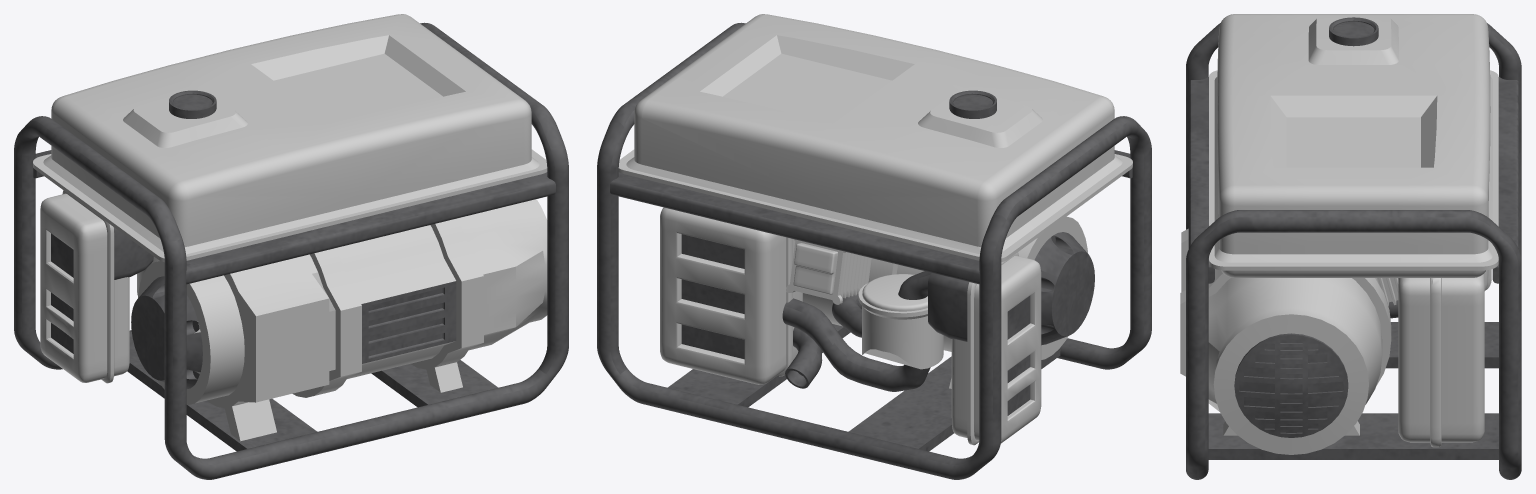
The model's file is generator.fbx.
3 views of the same model, side by side, from view 1: azimuth 30°, elevation 25°; view 2: azimuth 150°, elevation 25°; view 3: azimuth 270°, elevation 25° (orthographic). The views are drawn at different scales.
Visible parts, largest first — view 1: Cylinder; view 2: Cylinder; view 3: Cylinder.
Part boxes in pixels (x1=…): Cylinder: x1=14, y1=14, x2=568, y2=479; Cylinder: x1=597, y1=14, x2=1151, y2=479; Cylinder: x1=1180, y1=14, x2=1521, y2=479.
Size of the model in its own units: 81.24 by 58.66 by 56.54.
